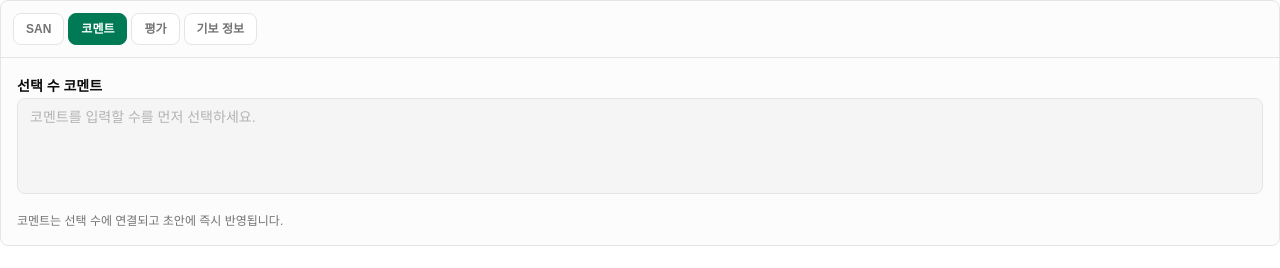
Test: MoveMetadataTabs › 평가 탭을 선택하면 평가 기호 선택 UI를 렌더링해야 한다
Click the tab "평가". click: x=156, y=29
box: [132,13,180,45]
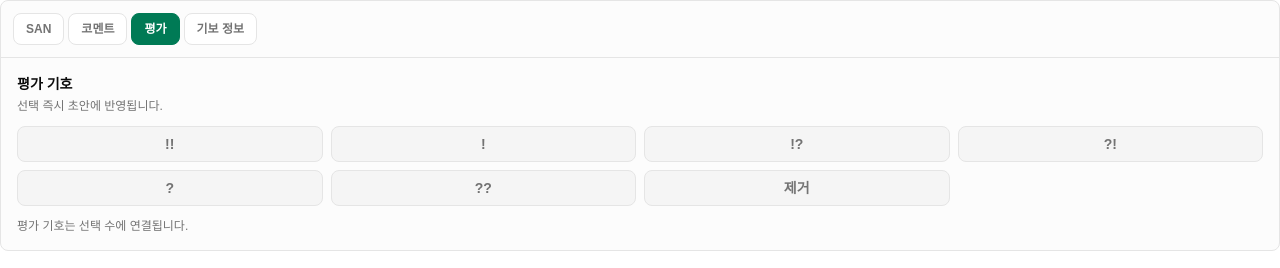
Expected: the panel "평가" is shown
Expected: the element named "평가 기호 선택" is shown, [17,126,1263,206]
Expected: the button named "매우 좋은 수" is shown, [17,126,322,162]
